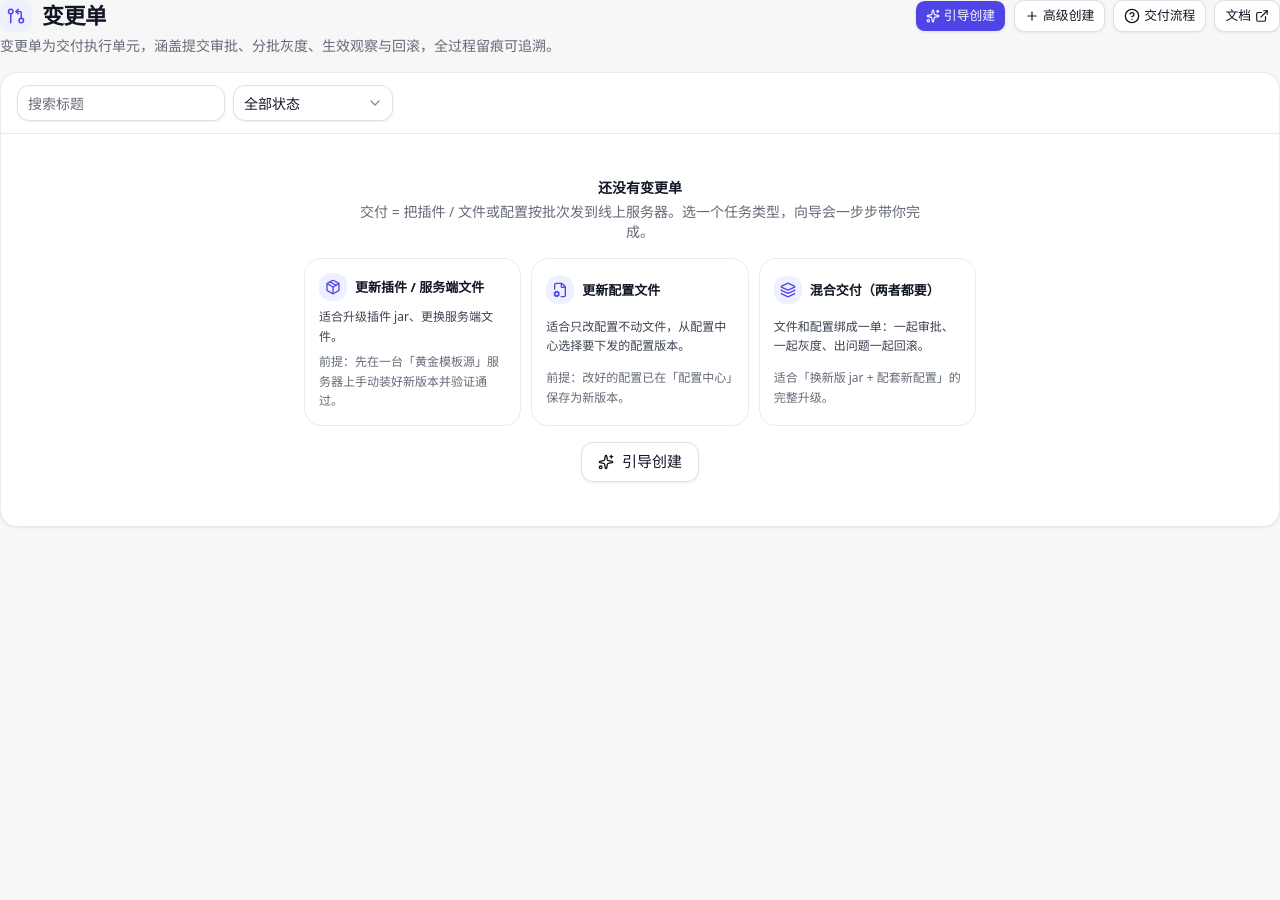
Test: /changes 引导创建向导 › 空态任务卡带预选类型直接进向导
The image size is (1280, 900).
Expected: the heading "还没有变更单" is shown, [598,178,682,198]
What coordinates should you click on to do the following:
click the button "更新配置文件 适合只改配置不动文件，从配置中心选择要下发的配置版本。 前提：改好的配置已在「配置中心」保存为新版本。"
I would click on:
 (640, 342)
Its box is [531,258,749,426].
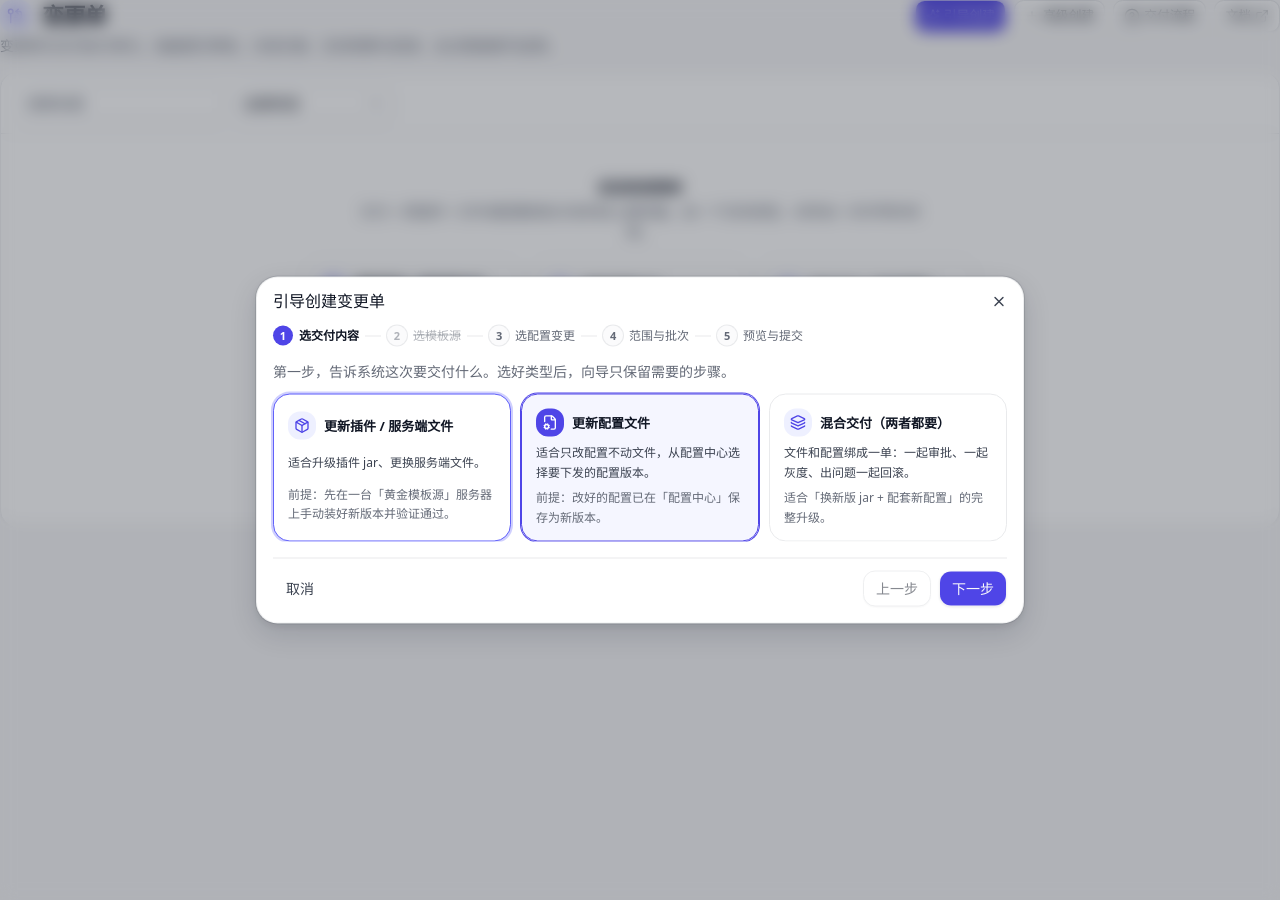
# 下一步直接进入选配置变更（纯配置跳过选模板源）
What coordinates should you click on to do the following:
click the button "下一步"
I would click on:
 (973, 588)
Its box is [939,570,1007,606].
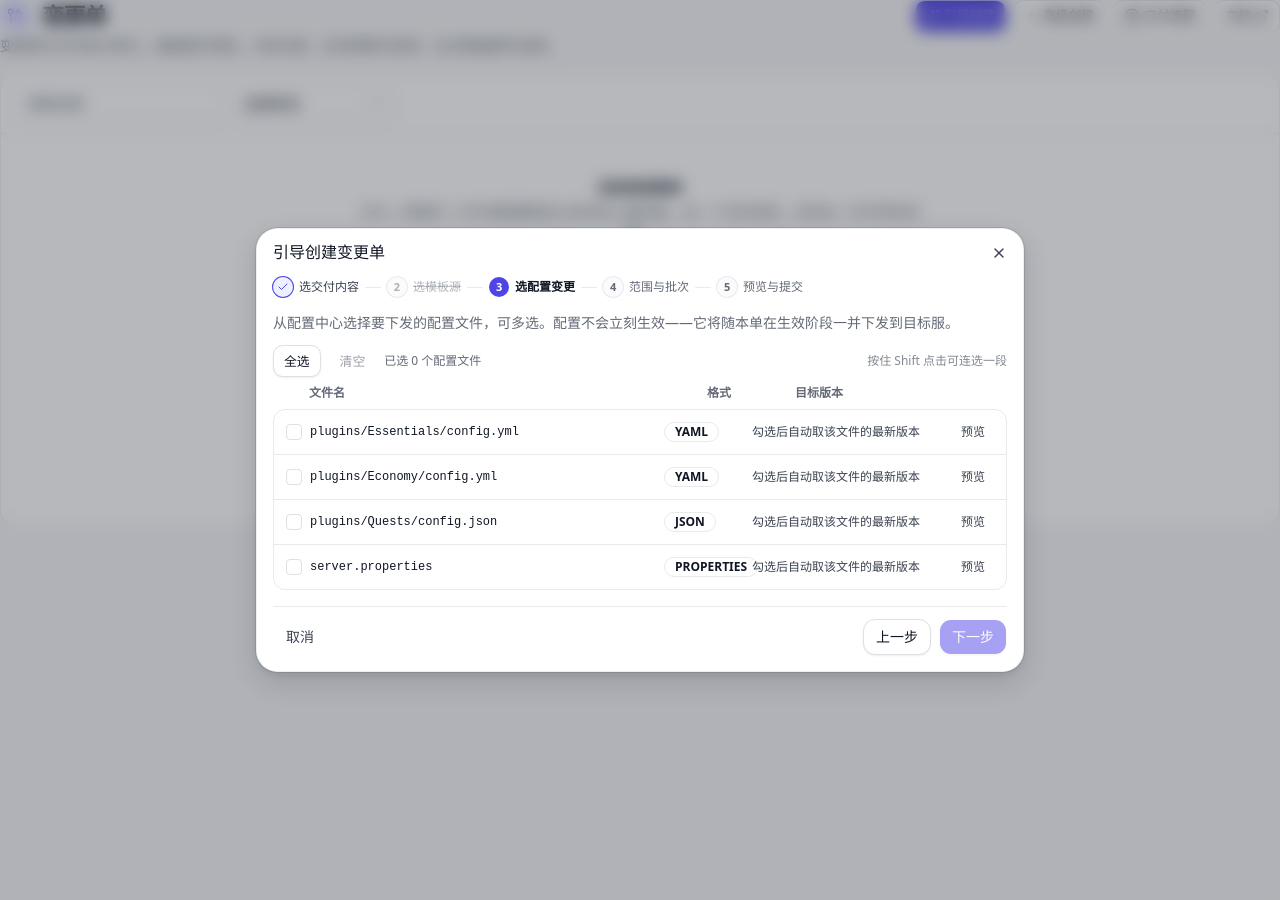
Now the text "从配置中心选择要下发的配置文件，可多选。配置不会立刻生效——它将随本单在生效阶段一并下发到目标服。" is shown, box [273,313,1007,333]
